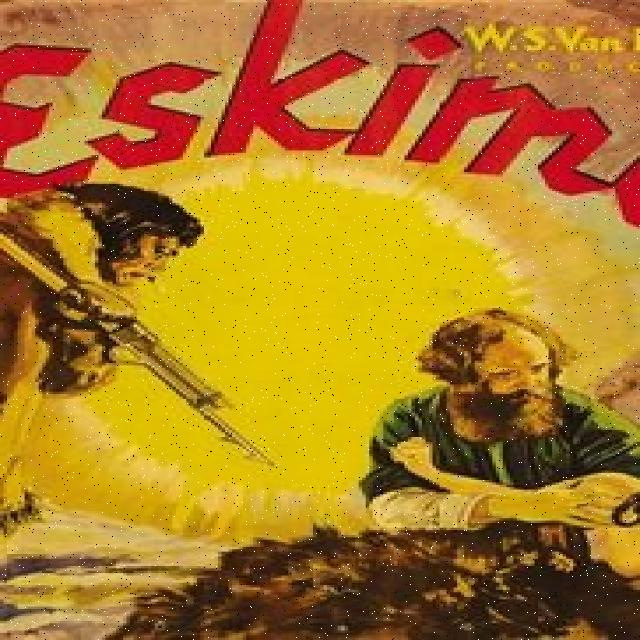movie-judul: (0, 13, 640, 227)
picture: (0, 183, 634, 637)
